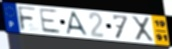2: (88, 12, 106, 40)
7: (112, 14, 130, 40)
A: (65, 11, 90, 37)
E: (38, 8, 63, 35)
F: (16, 5, 38, 32)
X: (130, 15, 155, 42)
